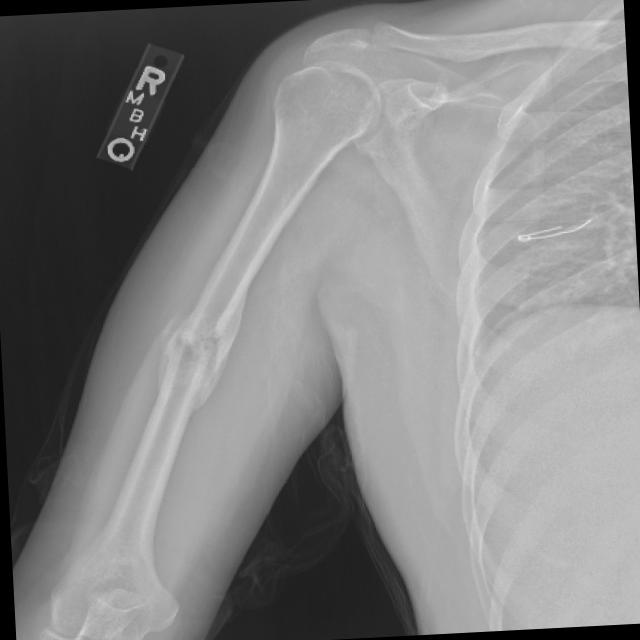humerus fracture: (109, 292, 284, 497)
